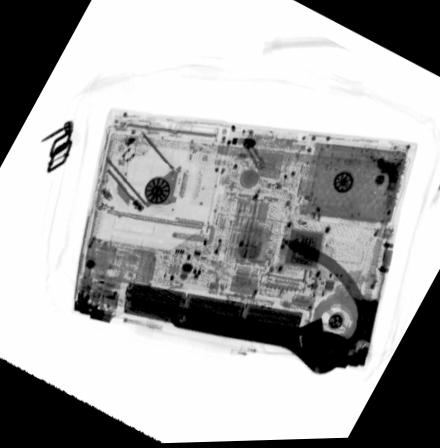Wrench: (167, 306, 352, 378)
